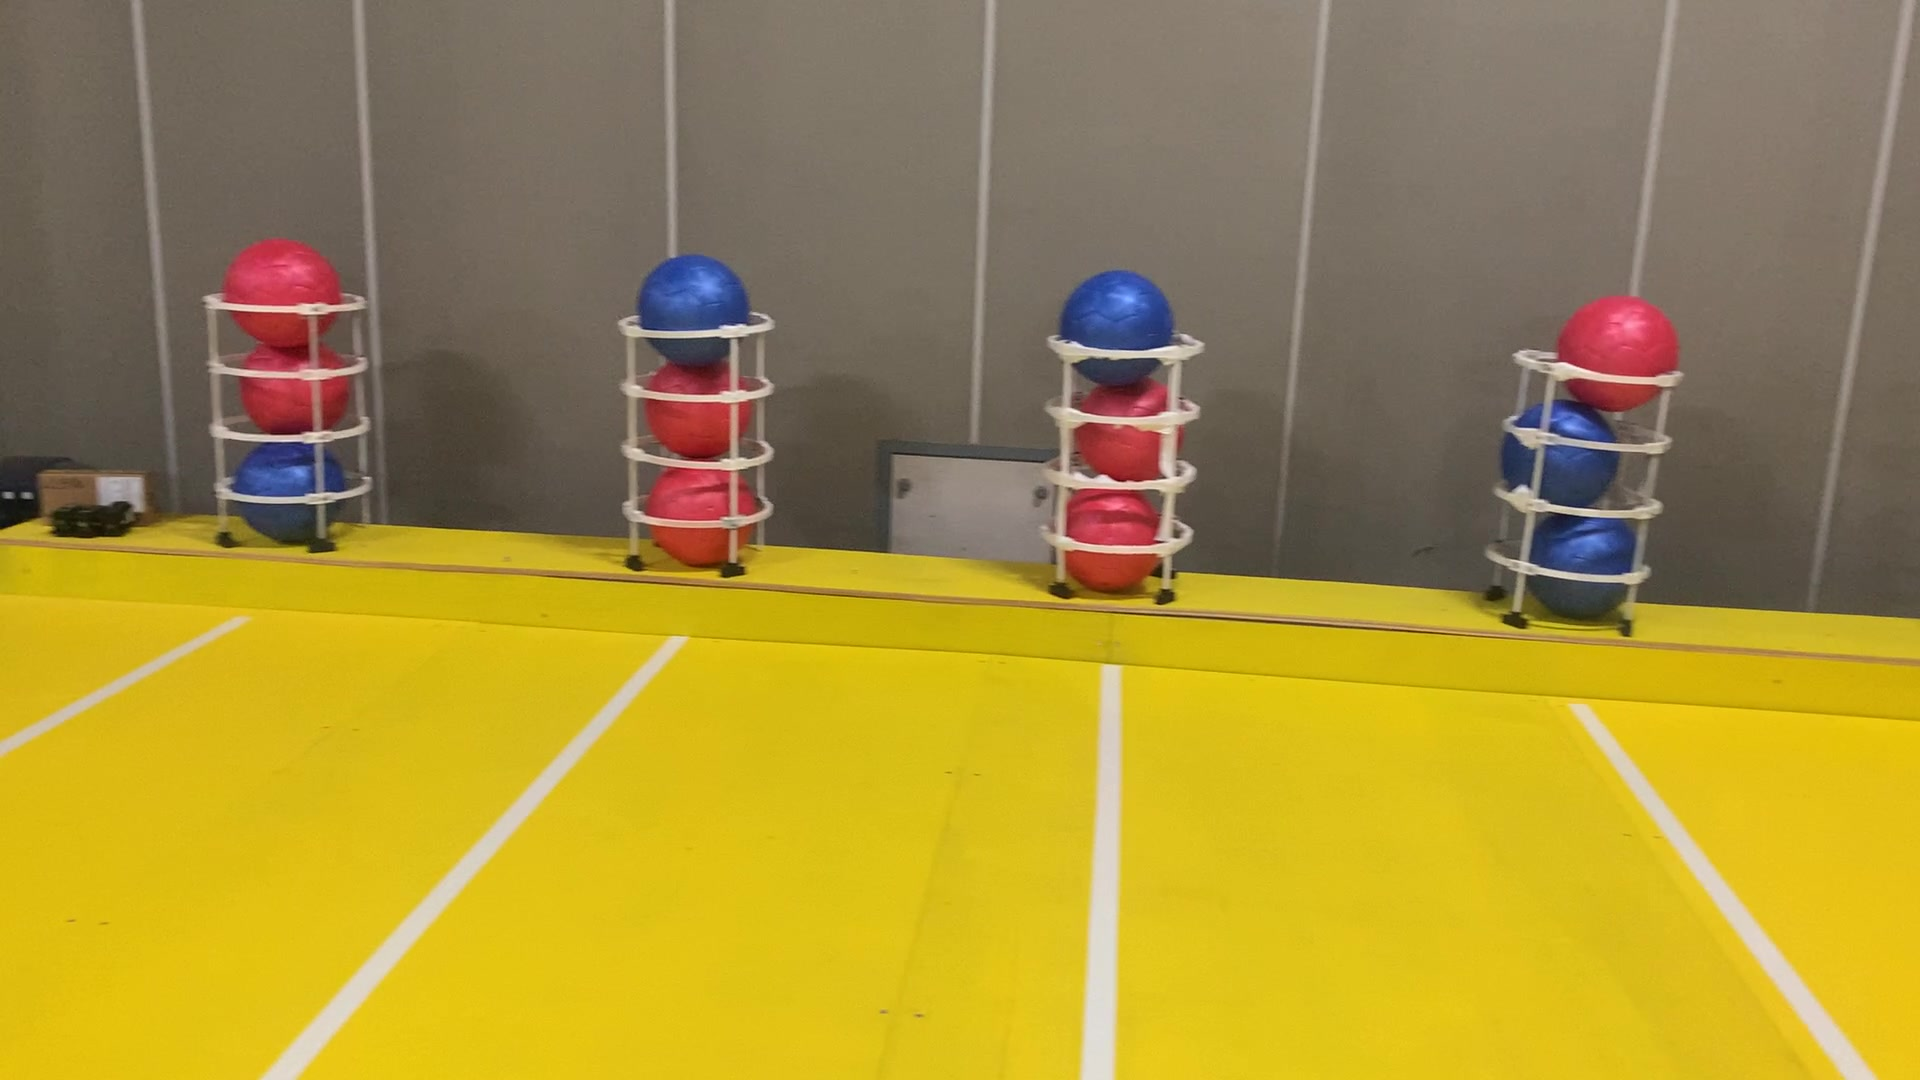blue: (1518, 498, 1647, 624), (1055, 261, 1180, 386), (630, 244, 753, 367), (1499, 398, 1625, 517), (235, 436, 343, 534)
red: (1553, 280, 1691, 417), (1051, 476, 1170, 599), (644, 452, 760, 568), (214, 241, 335, 352), (1072, 371, 1188, 484), (634, 355, 757, 458), (232, 335, 351, 436)
